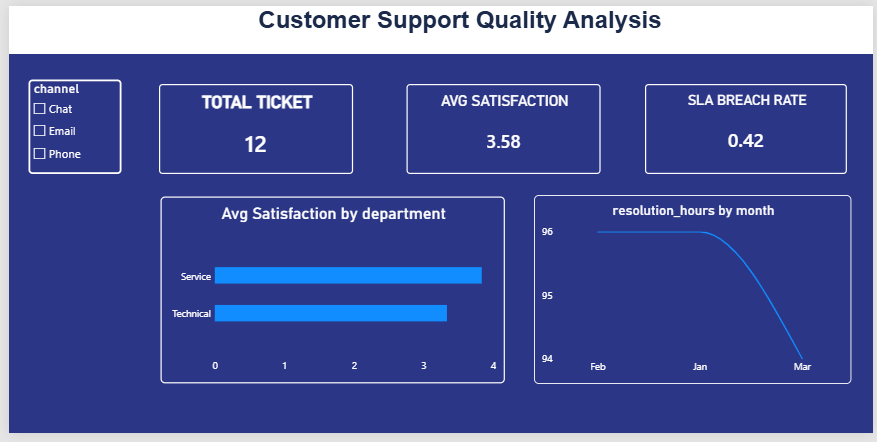

Layout of this report page (visuals, bound fields, positions):
{"tool":"powerbi","page":{"name":"Page 1","canvas":[1920,950],"ordinal":0},"visuals":[{"type":"card","title":"TOTAL TICKET","fields":{"Values":["measure.Ticket Count"]},"box":[334.3,174.3,431.4,200],"z":0},{"type":"card","title":"AVG SATISFACTION","fields":{"Values":["measure.Avg Satisfaction"]},"box":[882.9,174.3,431.4,200],"z":1},{"type":"card","title":"SLA BREACH RATE","fields":{"Values":["measure.SLA Breach Rate"]},"box":[1414.3,174.3,448.6,200],"z":2},{"type":"barChart","fields":{"Category":["teams.department"],"Y":["measure.Avg Satisfaction"]},"box":[336.7,423.3,765,415],"z":3},{"type":"lineChart","title":"resolution_hours by month","fields":{"Category":["tickets.month"],"Y":["Sum(tickets.resolution_hours)"]},"box":[1165,420,705,420],"z":4},{"type":"textbox","box":[0,0,1920,106.7],"z":5},{"type":"slicer","fields":{"Values":["tickets.channel"]},"box":[43.3,163.3,206.7,210],"z":6}]}

Visuals, with their boxes in screenshot pixels (x1, y1, x2, y2), scaled from the page's 1920x950 canvas onto the 877x442 screenshot:
"TOTAL TICKET" card: 153, 81, 350, 174
"AVG SATISFACTION" card: 403, 81, 600, 174
"SLA BREACH RATE" card: 646, 81, 851, 174
barChart - teams.department x measure.Avg Satisfaction: 154, 197, 503, 390
"resolution_hours by month" lineChart: 532, 195, 854, 391
textbox: 0, 0, 876, 50
slicer - tickets.channel: 20, 76, 114, 174
